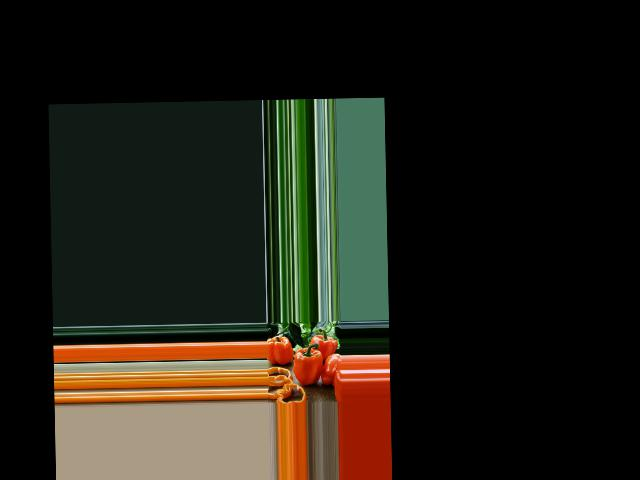bell_pepper: (321, 352, 341, 387)
